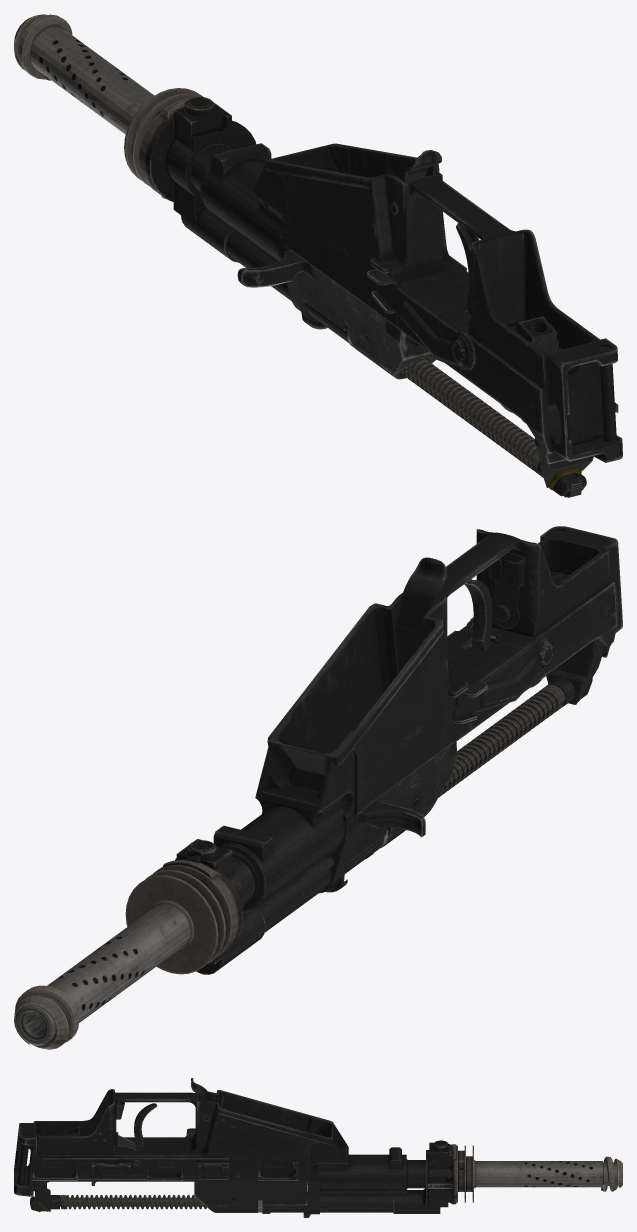
3 views of the same model, one above another, from view 1: azimuth 30°, elevation 25°; view 2: azimuth 150°, elevation 25°; view 3: azimuth 270°, elevation 25° (orthographic). The views are drawn at different scales.
Parts seen in each view (by area): view 1: TW_57c44b372459772d2b39b8ce_PZ_Import; view 2: TW_57c44b372459772d2b39b8ce_PZ_Import; view 3: TW_57c44b372459772d2b39b8ce_PZ_Import.
Part boxes in pixels (x1=…): TW_57c44b372459772d2b39b8ce_PZ_Import: x1=14, y1=14, x2=622, y2=497; TW_57c44b372459772d2b39b8ce_PZ_Import: x1=14, y1=526, x2=622, y2=1049; TW_57c44b372459772d2b39b8ce_PZ_Import: x1=14, y1=1078, x2=622, y2=1217.
Size of the model in its own units: 0.0336 by 0.2406 by 0.06.
1 material, 1 textured.
